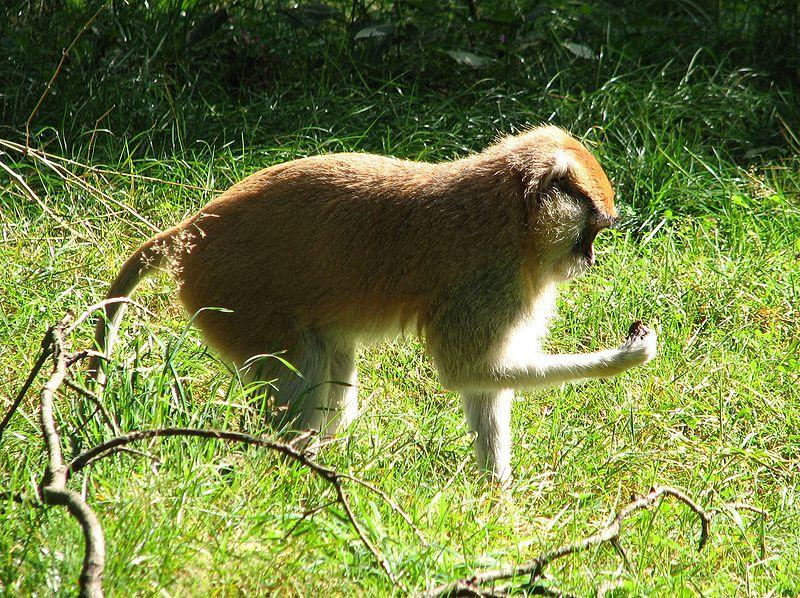monkey: (97, 125, 661, 491)
